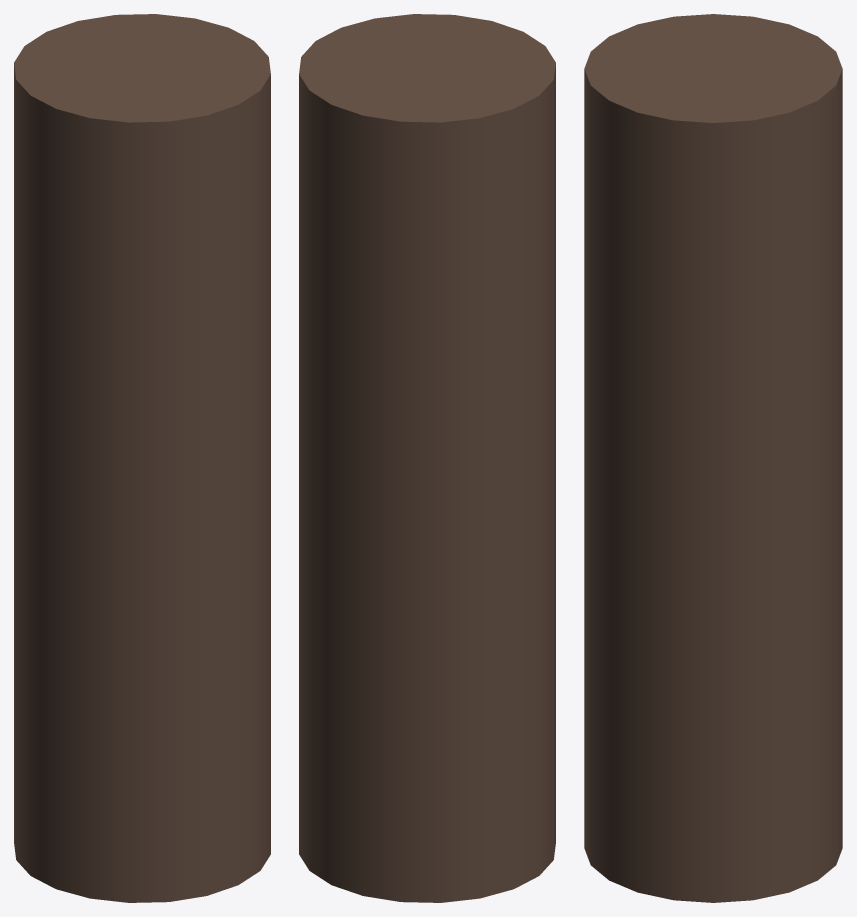
The model's file is doukasenn.fbx.
3 renders of one model, left to right at view 1: azimuth 30°, elevation 25°; view 2: azimuth 150°, elevation 25°; view 3: azimuth 270°, elevation 25°, orthographic.
Visible parts, largest first — view 1: pCylinder1; view 2: pCylinder1; view 3: pCylinder1.
Boxes of the visible parts, box(x1,y1,x2,y2) form: pCylinder1: box(14, 14, 270, 902); pCylinder1: box(299, 14, 555, 902); pCylinder1: box(584, 14, 842, 902).
Bounding box in the file's own units: 6 × 20 × 6.
